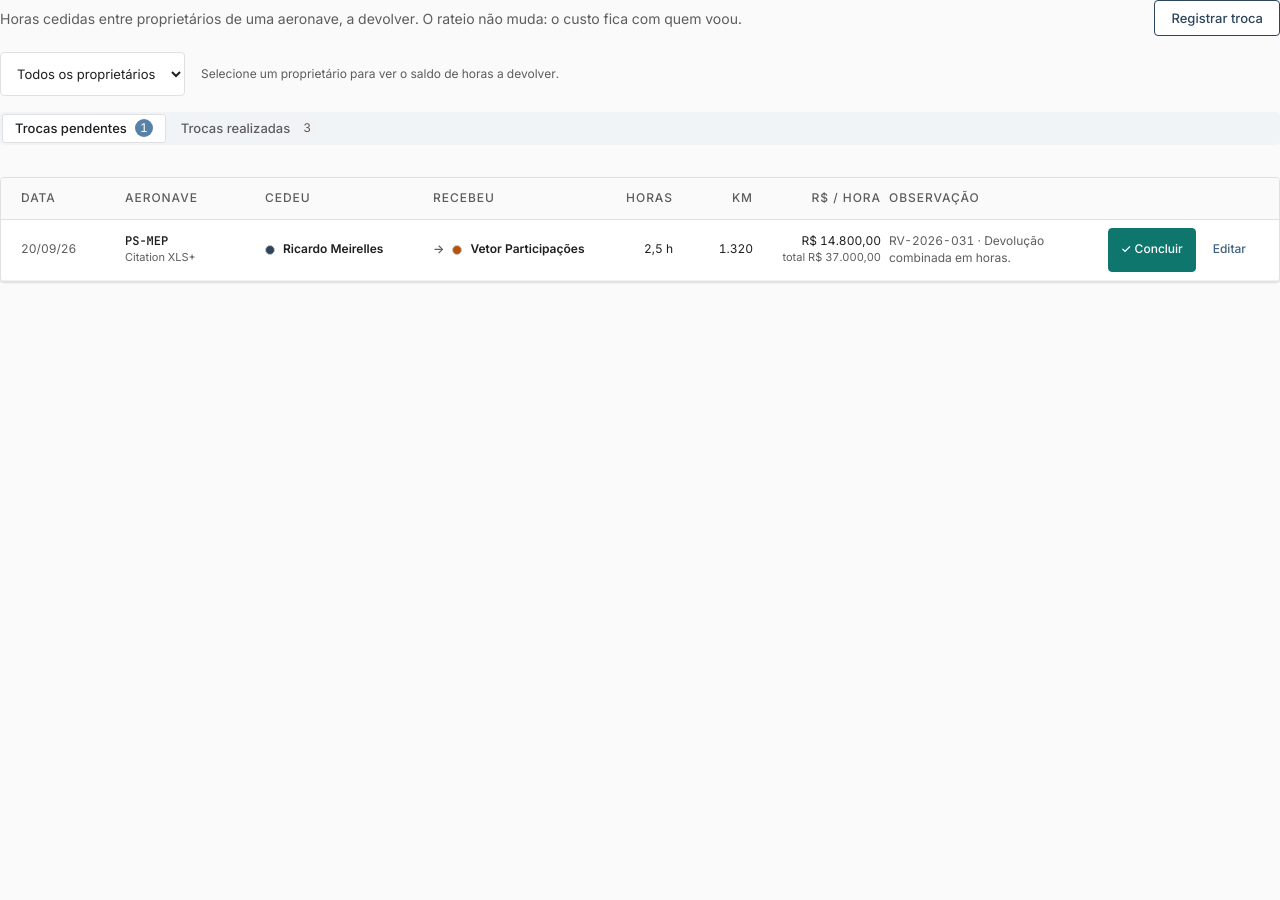
Test: PaginaDeTrocas › reabrir pede confirmação, dizendo que a data da devolução se perde
Check: the text "RV-2026-031 · Devolução combinada em horas." is shown, box x1=889 y1=233 x2=1044 y2=265
Click the tab "Trocas realizadas 3".
click(248, 128)  # box x1=168 y1=114 x2=329 y2=143
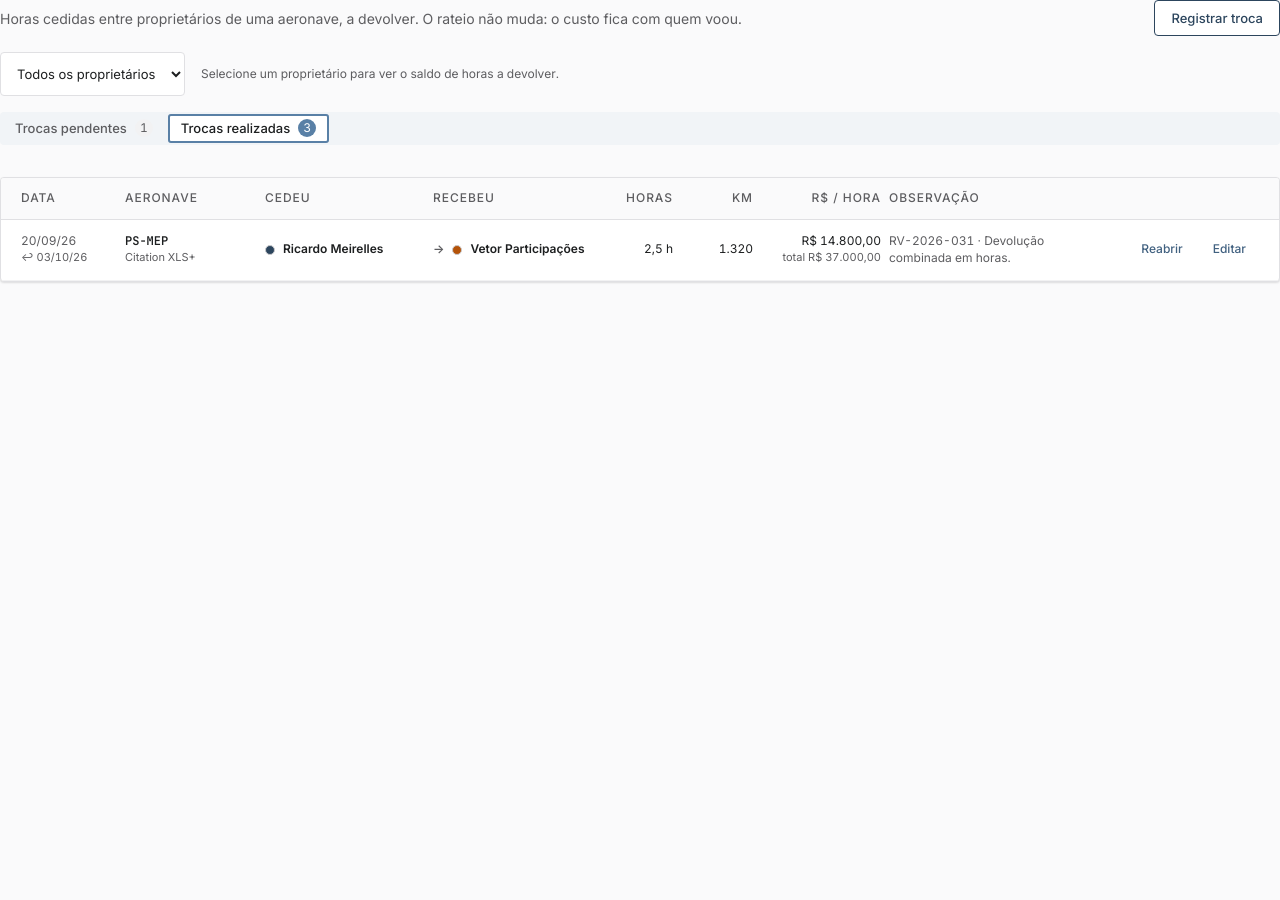
Click the button with aria-label "Reabrir troca de Ricardo Meirelles para Vetor Participações".
click(1162, 250)  # box x1=1128 y1=228 x2=1196 y2=272
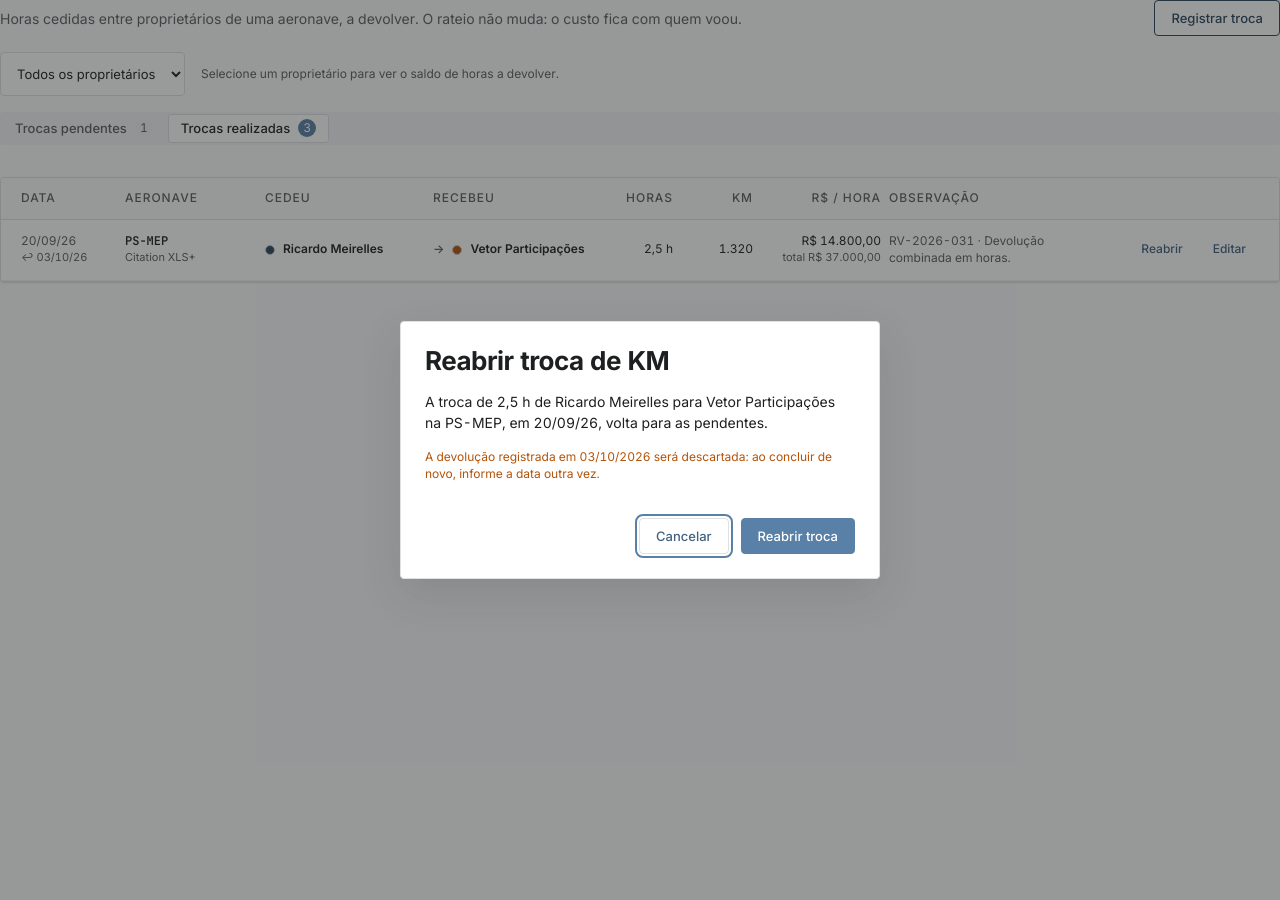
Check: the text "A devolução registrada em 03/10/2026 será descartada: ao concluir de novo, informe a data outra vez." is shown, box x1=425 y1=449 x2=855 y2=482
Click the button "Reabrir troca".
click(798, 536)  # box x1=741 y1=518 x2=855 y2=554
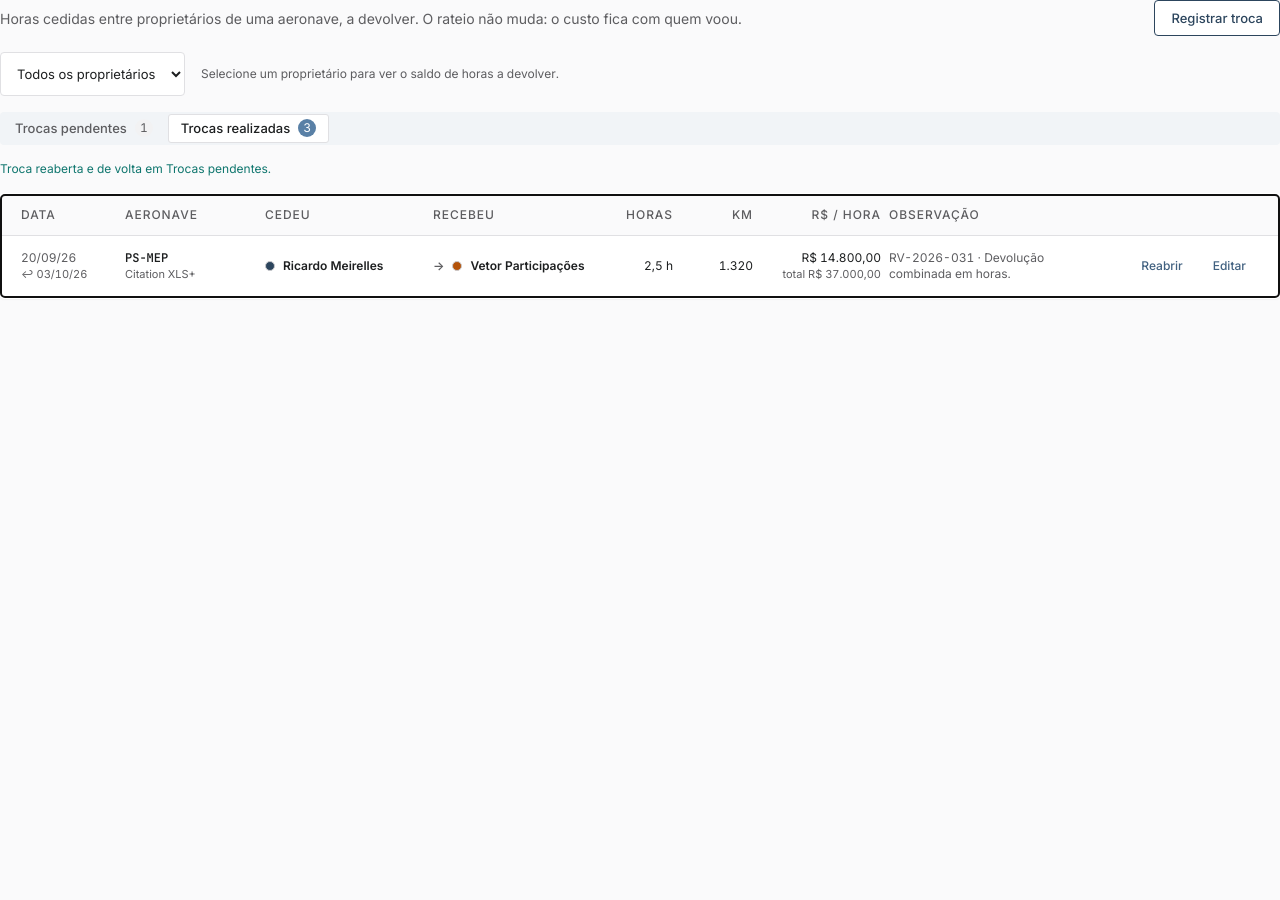
Check: the text "Troca reaberta e de volta em Trocas pendentes." is shown, box x1=0 y1=161 x2=271 y2=176
